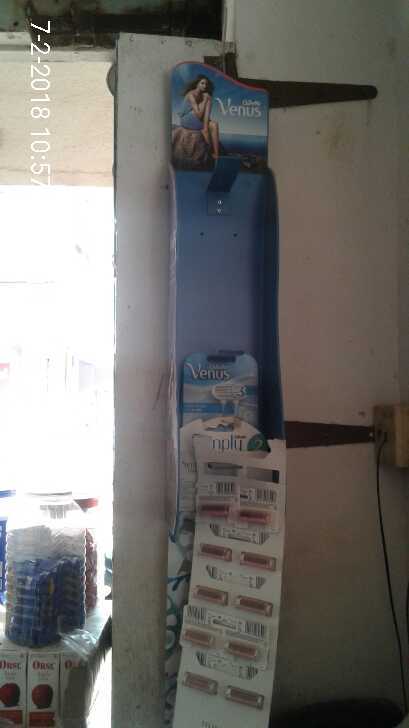reject: (156, 227, 257, 361)
